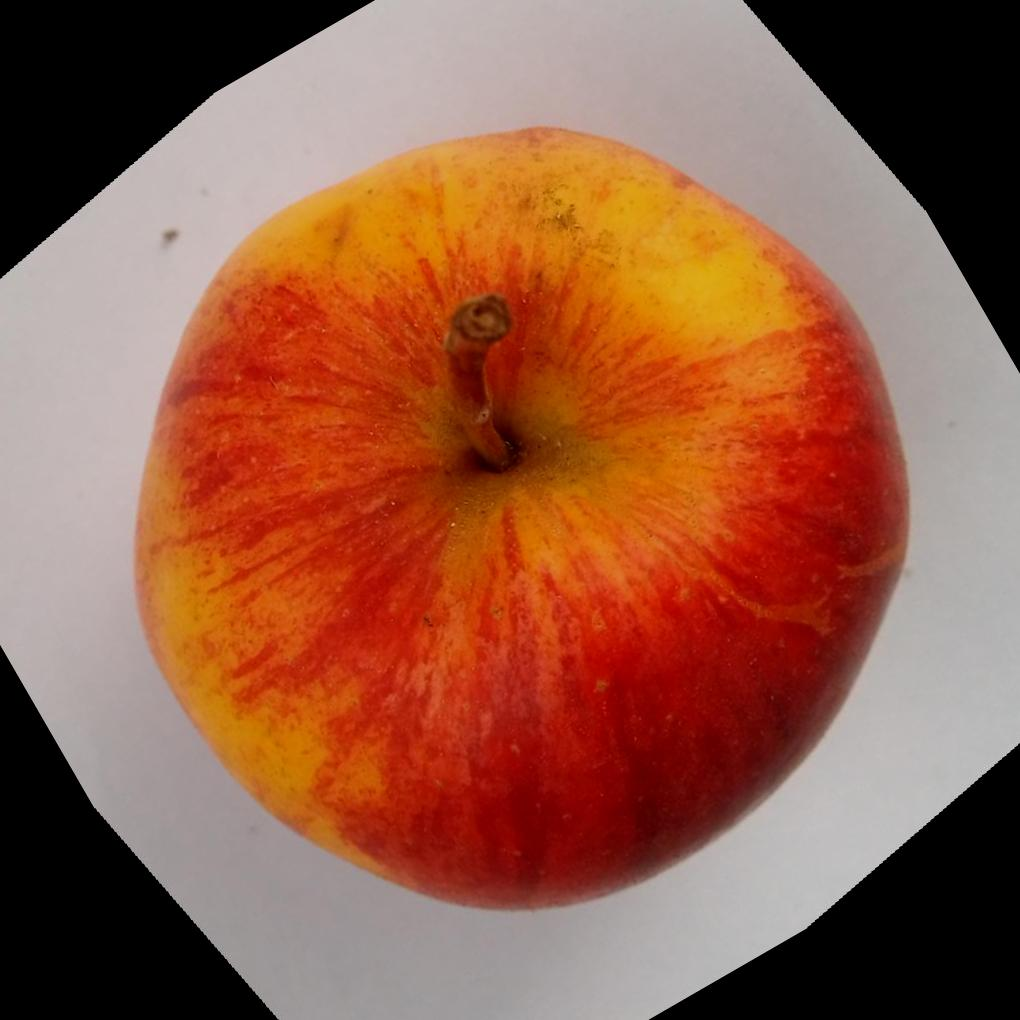FreshGuava: (126, 126, 909, 915)
